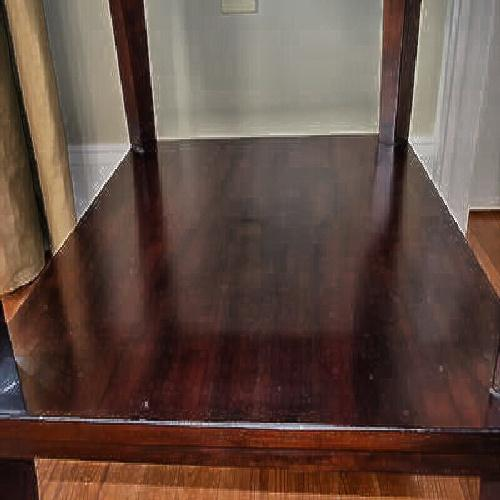table: (49, 112, 466, 450)
